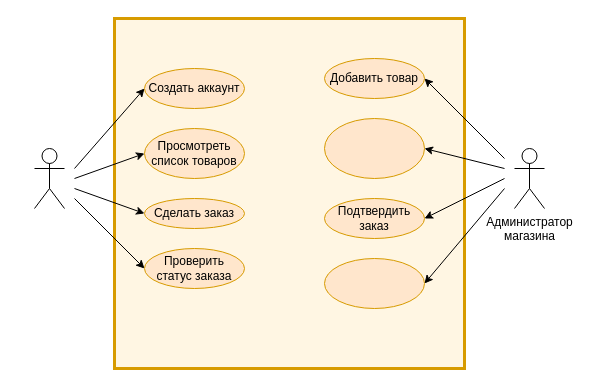
The diagram is 590 pixels wide and 387 high, and some of its shapes have lost their labels. The box of each missing label's shape, as (x1, y1, x2, y2) in pixels:
Обновить информацию по заказу: (324, 258, 424, 308)
Обновить информацию по товару: (324, 118, 424, 178)
Покупатель: (34, 148, 64, 208)
